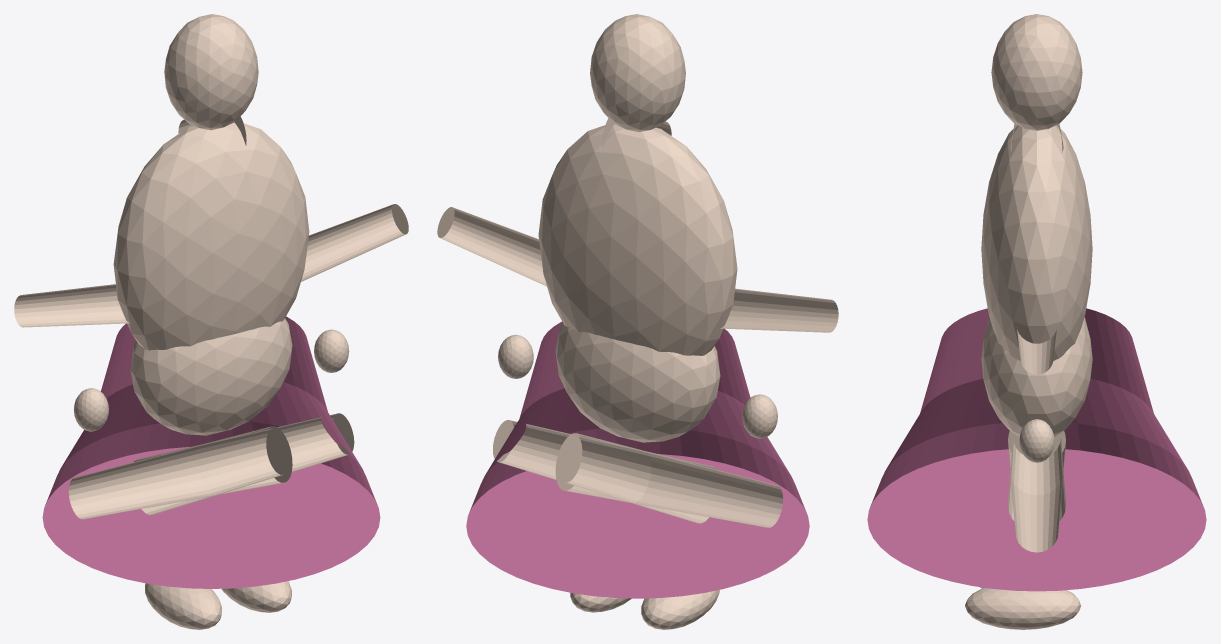
File: masculino-falda.glb
3 views of the same model, side by side, from view 1: azimuth 30°, elevation 25°; view 2: azimuth 150°, elevation 25°; view 3: azimuth 270°, elevation 25° (orthographic).
Parts seen in each view (by area): view 1: Prenda, Avatar0, Avatar1, Avatar3, Avatar4, Avatar8, Avatar10, Avatar6, Avatar5, Avatar9, Avatar11, Avatar7; view 2: Prenda, Avatar0, Avatar1, Avatar3, Avatar4, Avatar8, Avatar10, Avatar6, Avatar5, Avatar7, Avatar11, Avatar9; view 3: Prenda, Avatar0, Avatar3, Avatar1, Avatar9, Avatar8, Avatar4, Avatar11, Avatar10.
Part boxes in pixels (x1=…): Prenda: x1=42, y1=316, x2=380, y2=588; Avatar0: x1=113, y1=122, x2=309, y2=350; Avatar1: x1=130, y1=318, x2=292, y2=435; Avatar3: x1=164, y1=14, x2=258, y2=130; Avatar4: x1=68, y1=426, x2=292, y2=519; Avatar8: x1=134, y1=413, x2=354, y2=514; Avatar10: x1=301, y1=204, x2=408, y2=281; Avatar6: x1=14, y1=284, x2=129, y2=327; Avatar5: x1=145, y1=583, x2=221, y2=629; Avatar9: x1=221, y1=581, x2=291, y2=612; Avatar11: x1=314, y1=329, x2=349, y2=372; Avatar7: x1=73, y1=388, x2=108, y2=431; Prenda: x1=466, y1=321, x2=809, y2=598; Avatar0: x1=538, y1=124, x2=737, y2=355; Avatar1: x1=555, y1=323, x2=720, y2=442; Avatar3: x1=590, y1=14, x2=685, y2=132; Avatar4: x1=555, y1=433, x2=783, y2=527; Avatar8: x1=493, y1=420, x2=716, y2=523; Avatar10: x1=437, y1=207, x2=546, y2=286; Avatar6: x1=720, y1=288, x2=838, y2=332; Avatar5: x1=641, y1=590, x2=719, y2=629; Avatar7: x1=742, y1=394, x2=777, y2=438; Avatar11: x1=498, y1=334, x2=533, y2=378; Avatar9: x1=570, y1=593, x2=631, y2=612; Prenda: x1=867, y1=308, x2=1206, y2=591; Avatar0: x1=981, y1=125, x2=1092, y2=361; Avatar3: x1=991, y1=14, x2=1082, y2=130; Avatar1: x1=981, y1=317, x2=1092, y2=436; Avatar9: x1=965, y1=587, x2=1081, y2=629; Avatar8: x1=1008, y1=431, x2=1065, y2=552; Avatar4: x1=1008, y1=438, x2=1065, y2=521; Avatar11: x1=1019, y1=419, x2=1054, y2=462; Avatar10: x1=1016, y1=327, x2=1057, y2=374.
Bounding box in the file's own units: 1.75 × 2.58 × 1.34.
